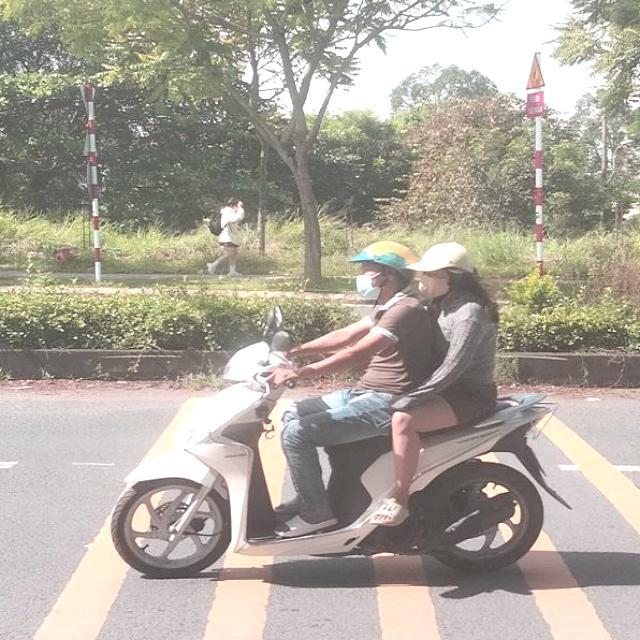Helmet: (350, 240, 414, 306), (418, 241, 473, 302)
